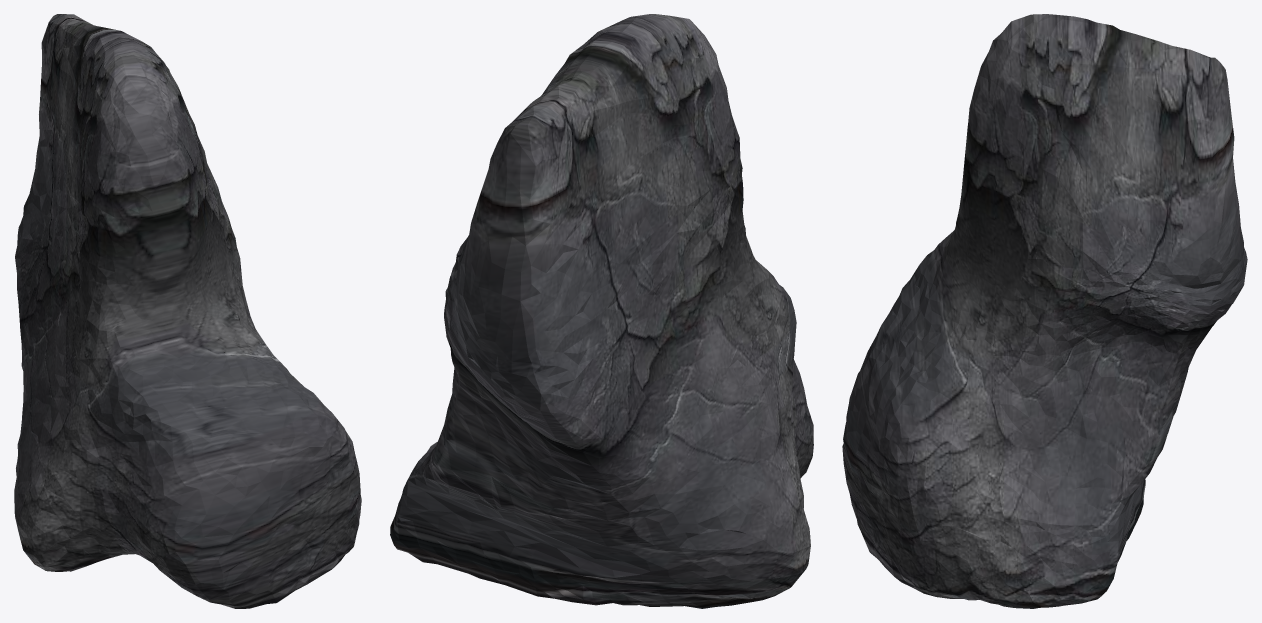
Rendered from BIGrock2.fbx.
3 views of the same model, side by side, from view 1: azimuth 30°, elevation 25°; view 2: azimuth 150°, elevation 25°; view 3: azimuth 270°, elevation 25° (orthographic). The views are drawn at different scales.
Parts seen in each view (by area): view 1: rock.008; view 2: rock.008; view 3: rock.008.
Boxes of the visible parts, x1,y1,x2,y2 form: rock.008: (14,14,361,608); rock.008: (390,14,813,608); rock.008: (842,14,1247,608).
Size of the model in its own units: 1477 by 2206 by 1603.
